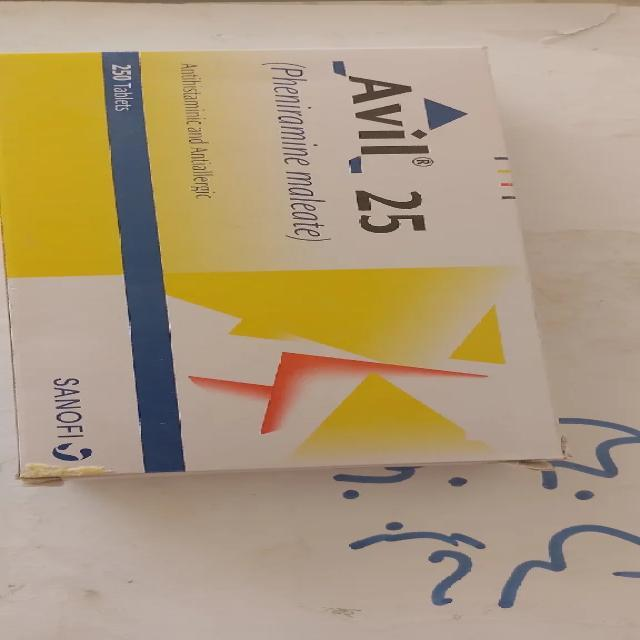drug-name: (344, 72, 435, 237)
